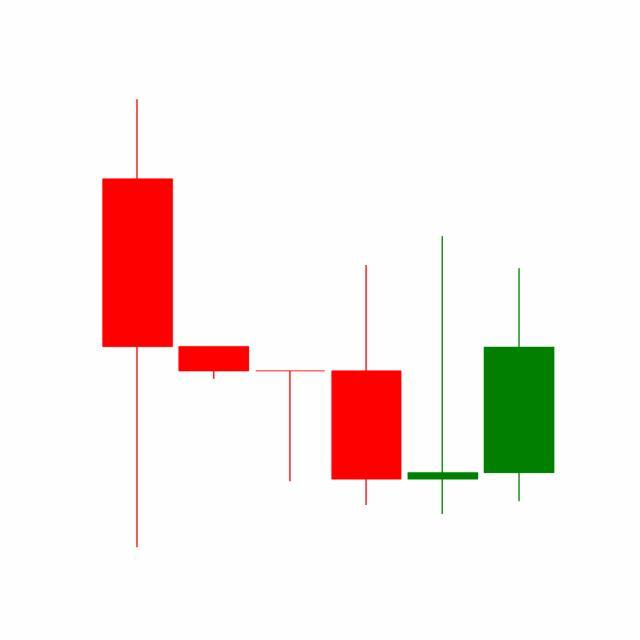Spinning Top: (404, 233, 482, 518)
